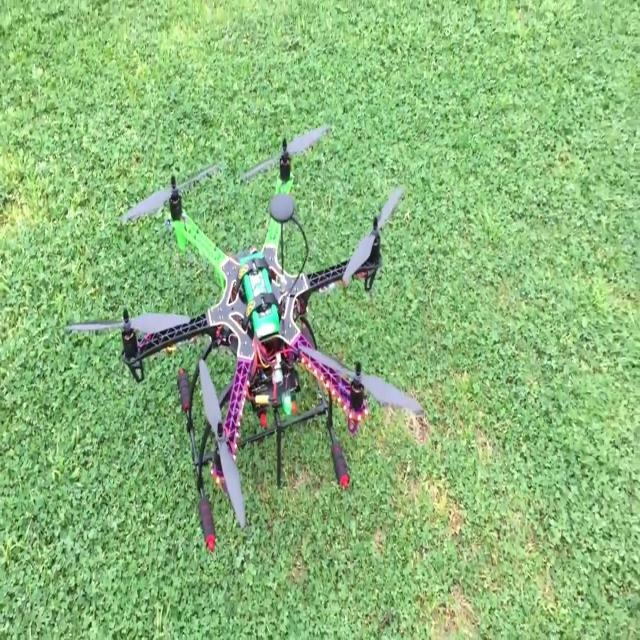drone: (97, 103, 454, 556)
